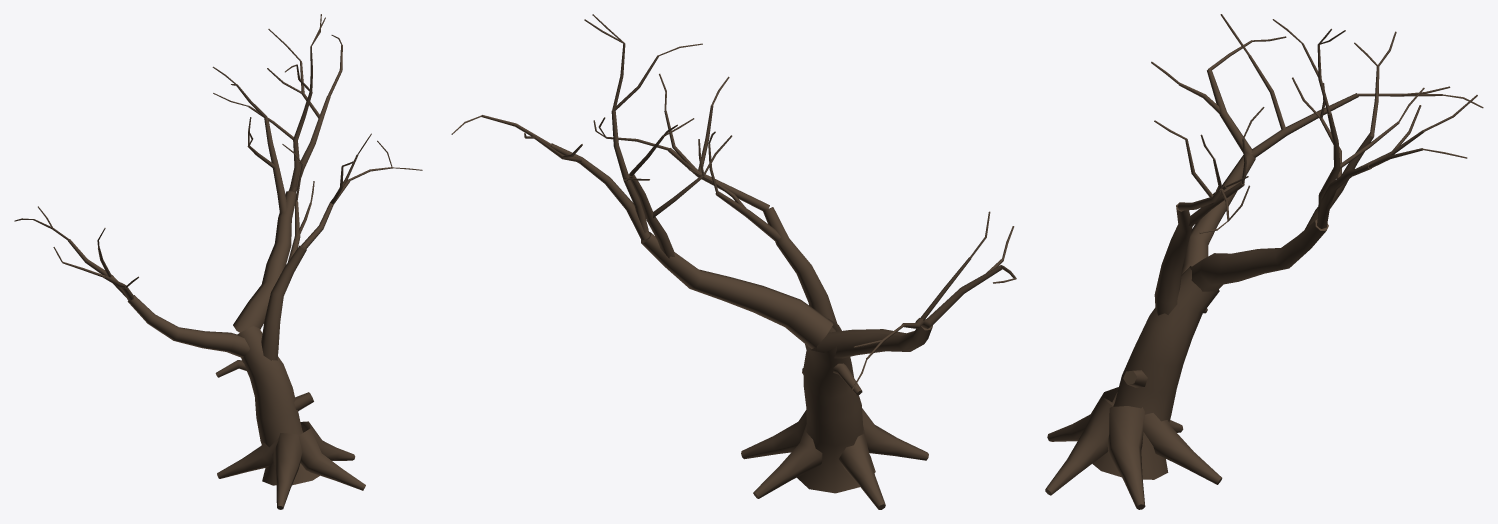
Rendered from dead_tree.glb.
3 renders of one model, left to right at view 1: azimuth 30°, elevation 25°; view 2: azimuth 150°, elevation 25°; view 3: azimuth 270°, elevation 25°, orthographic. The views are drawn at different scales.
Visible parts, largest first — view 1: dead_tree; view 2: dead_tree; view 3: dead_tree.
Boxes of the visible parts, x1,y1,x2,y2 form: dead_tree: (14, 14, 422, 509); dead_tree: (451, 14, 1016, 509); dead_tree: (1045, 14, 1483, 509).
Size of the model in its own units: 6.52 by 6.78 by 5.26.
